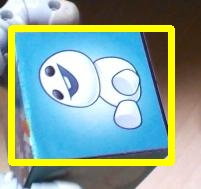Blue1: (11, 29, 169, 163)
